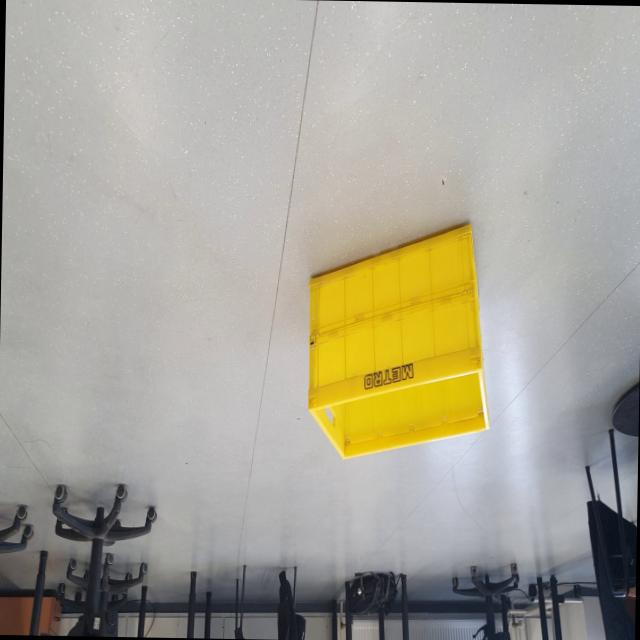box: (300, 213, 502, 473)
